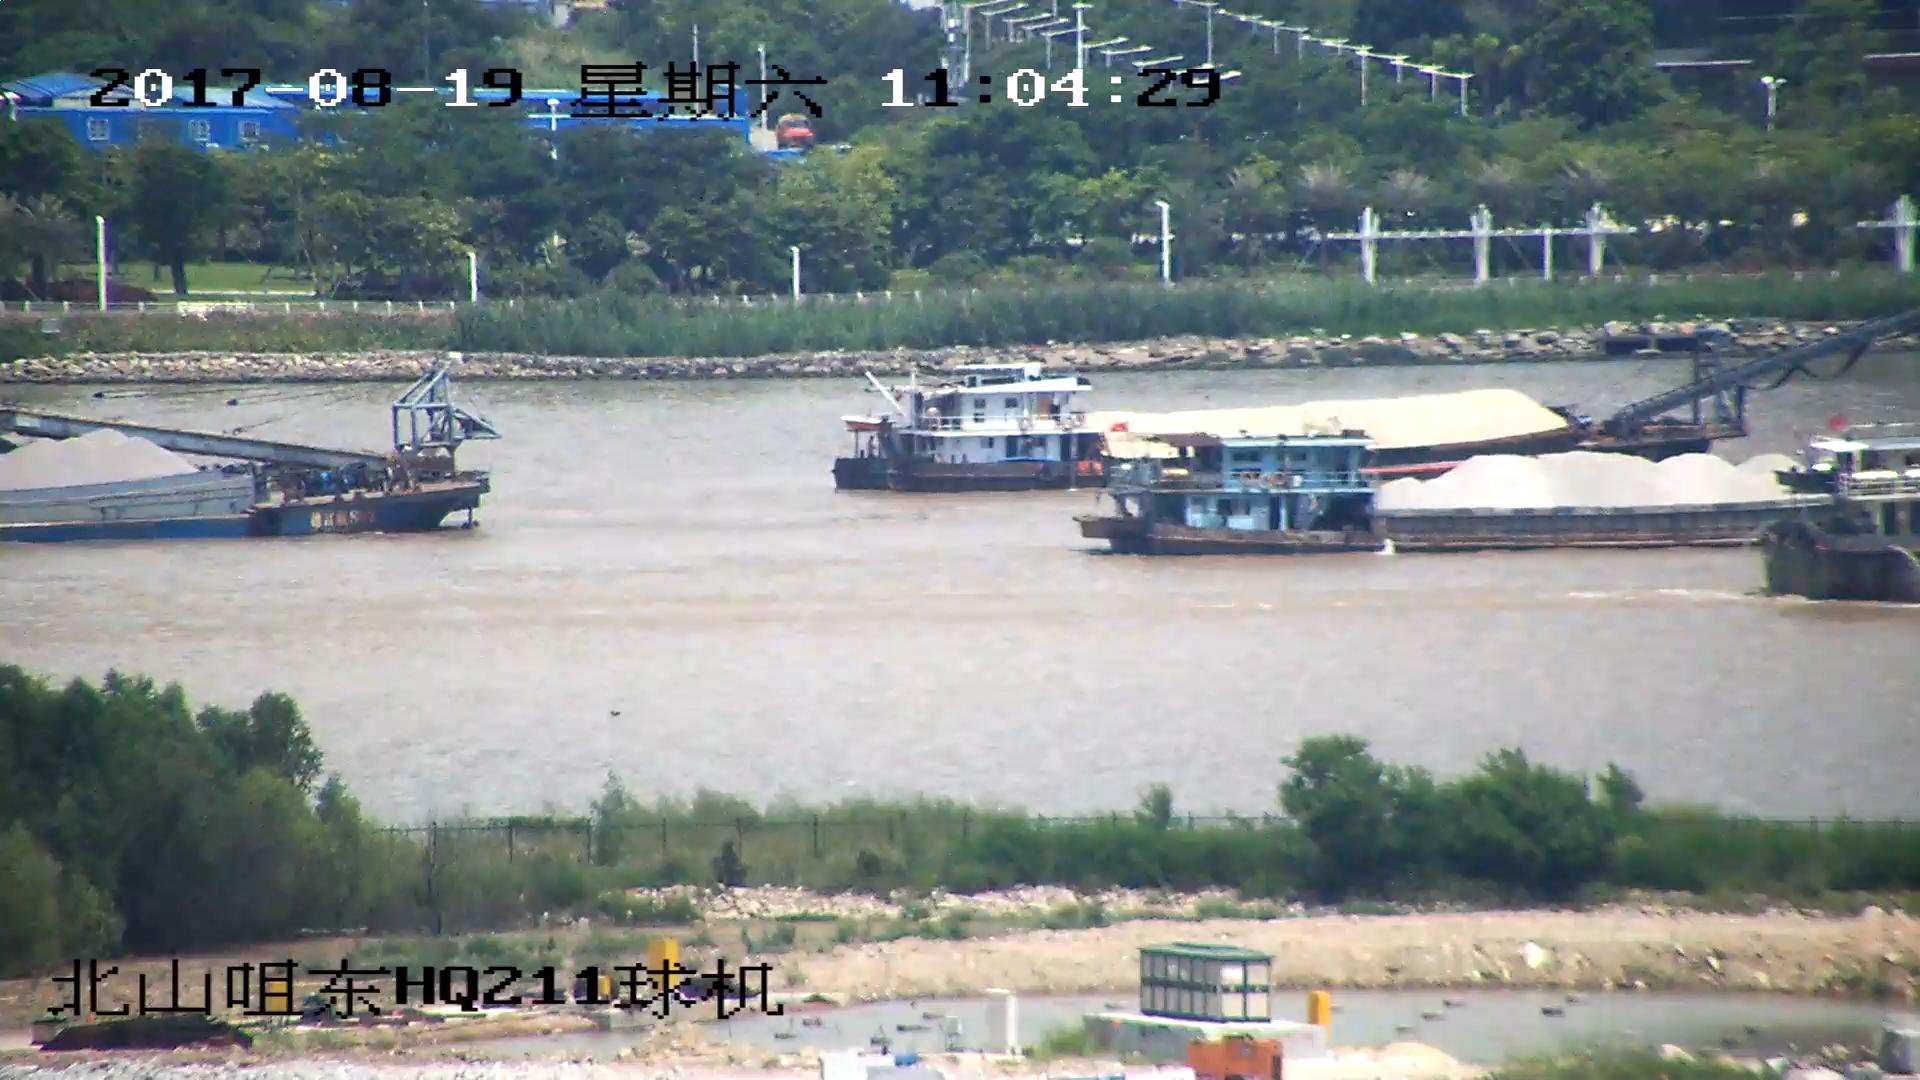ore carrier: (825, 323, 1920, 493), (1079, 433, 1920, 551), (1, 364, 493, 529)
